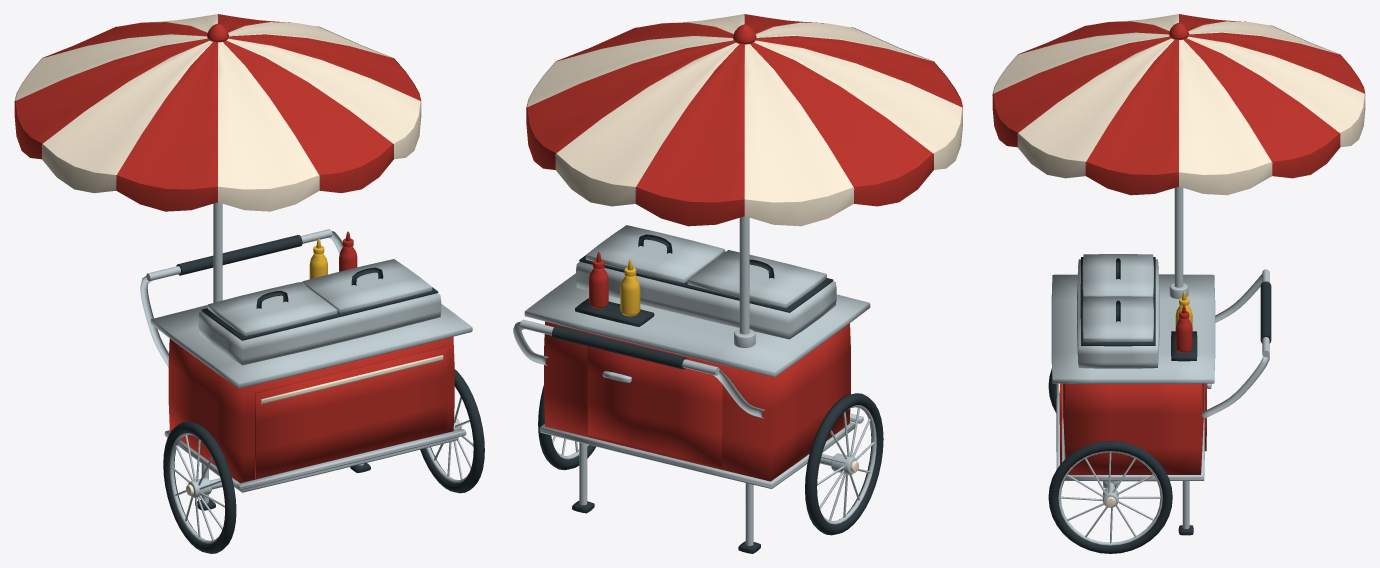
File: hot-dog-cart.glb
The picture shows the model from 3 angles, left to right: view 1: azimuth 30°, elevation 25°; view 2: azimuth 150°, elevation 25°; view 3: azimuth 270°, elevation 25°; orthographic projection. The views are drawn at different scales.
Visible parts, largest first — view 1: hotdogcart.front_panel, hotdogcart.body, hotdogcart.umbrella.panel11, hotdogcart.umbrella.panel12, panel, hotdogcart.umbrella.panel1, hotdogcart.umbrella.panel10, hotdogcart.cooker, hotdogcart.umbrella.panel9, hotdogcart.umbrella.panel2, hotdogcart.lid.left.plate, hotdogcart.lid.right.plate (+22 smaller); view 2: hotdogcart.body, hotdogcart.rear_door, panel, hotdogcart.umbrella.panel8, hotdogcart.umbrella.panel7, hotdogcart.umbrella.panel6, hotdogcart.umbrella.panel9, hotdogcart.umbrella.panel10, hotdogcart.umbrella.panel5, hotdogcart.cooker, hotdogcart.lid.right.plate, hotdogcart.lid.left.plate (+27 smaller); view 3: hotdogcart.body, panel, hotdogcart.umbrella.panel3, hotdogcart.umbrella.panel4, hotdogcart.umbrella.panel2, hotdogcart.umbrella.panel5, hotdogcart.umbrella.panel1, hotdogcart.umbrella.panel6, hotdogcart.wheel.right.tire, hotdogcart.lid.right.plate, hotdogcart.lid.left.plate, hotdogcart.umbrella.panel12 (+19 smaller).
Boxes of the visible parts, x1,y1,x2,y2 form: hotdogcart.front_panel: (255, 346, 447, 478); hotdogcart.body: (168, 336, 454, 483); hotdogcart.umbrella.panel11: (117, 42, 217, 189); hotdogcart.umbrella.panel12: (218, 42, 318, 189); panel: (150, 282, 472, 388); hotdogcart.umbrella.panel1: (223, 40, 392, 174); hotdogcart.umbrella.panel10: (43, 40, 212, 174); hotdogcart.cooker: (198, 293, 441, 365); hotdogcart.umbrella.panel9: (15, 38, 209, 143); hotdogcart.umbrella.panel2: (226, 38, 420, 143); hotdogcart.lid.left.plate: (207, 282, 337, 336); hotdogcart.lid.right.plate: (302, 259, 432, 313); hotdogcart.body: (544, 321, 850, 481); hotdogcart.rear_door: (587, 346, 722, 467); panel: (524, 273, 870, 377); hotdogcart.umbrella.panel8: (744, 44, 852, 202); hotdogcart.umbrella.panel7: (636, 44, 744, 202); hotdogcart.umbrella.panel6: (556, 42, 739, 186); hotdogcart.umbrella.panel9: (750, 42, 932, 186); hotdogcart.umbrella.panel10: (754, 40, 962, 153); hotdogcart.umbrella.panel5: (527, 40, 735, 153); hotdogcart.cooker: (576, 262, 836, 339); hotdogcart.lid.right.plate: (585, 225, 725, 283); hotdogcart.lid.left.plate: (687, 250, 826, 308); hotdogcart.body: (1063, 383, 1203, 474); panel: (1051, 274, 1215, 383); hotdogcart.umbrella.panel3: (1086, 39, 1178, 174); hotdogcart.umbrella.panel4: (1179, 39, 1271, 174); hotdogcart.umbrella.panel2: (1018, 38, 1174, 161); hotdogcart.umbrella.panel5: (1183, 38, 1339, 161); hotdogcart.umbrella.panel1: (993, 36, 1170, 132); hotdogcart.umbrella.panel6: (1187, 36, 1364, 132); hotdogcart.wheel.right.tire: (1048, 441, 1172, 553); hotdogcart.lid.right.plate: (1082, 296, 1153, 342); hotdogcart.lid.left.plate: (1082, 254, 1153, 297); hotdogcart.umbrella.panel12: (993, 32, 1169, 93).
Bounding box in the file's own units: 1.95 × 2.37 × 1.81.
